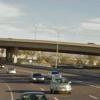Bridge: (4, 30, 95, 64)
